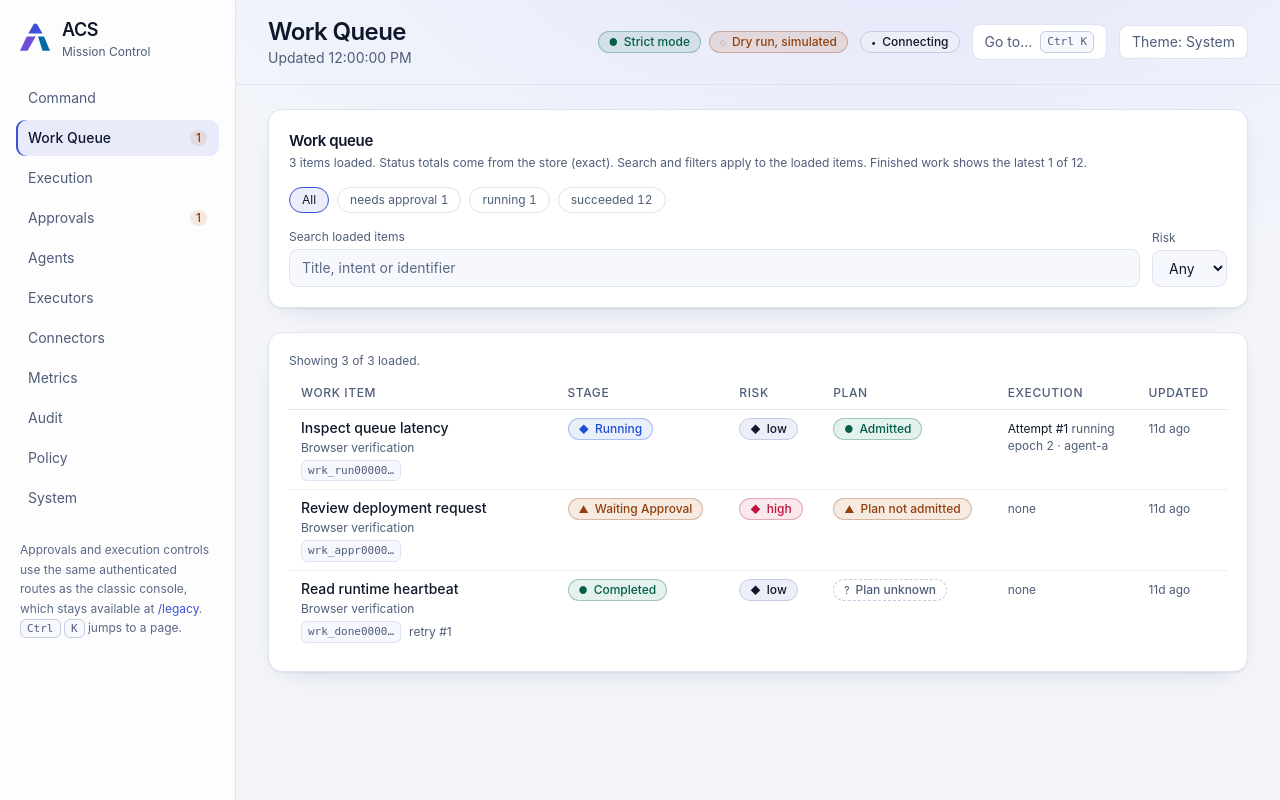
Test case: Work queue › filters by status chip and search, and says so when nothing matches
Expected: the table named "Work items" is shown, [289,376,1227,651]
Click the button "needs approval 1".
click(399, 200)  # box [337,186,461,212]
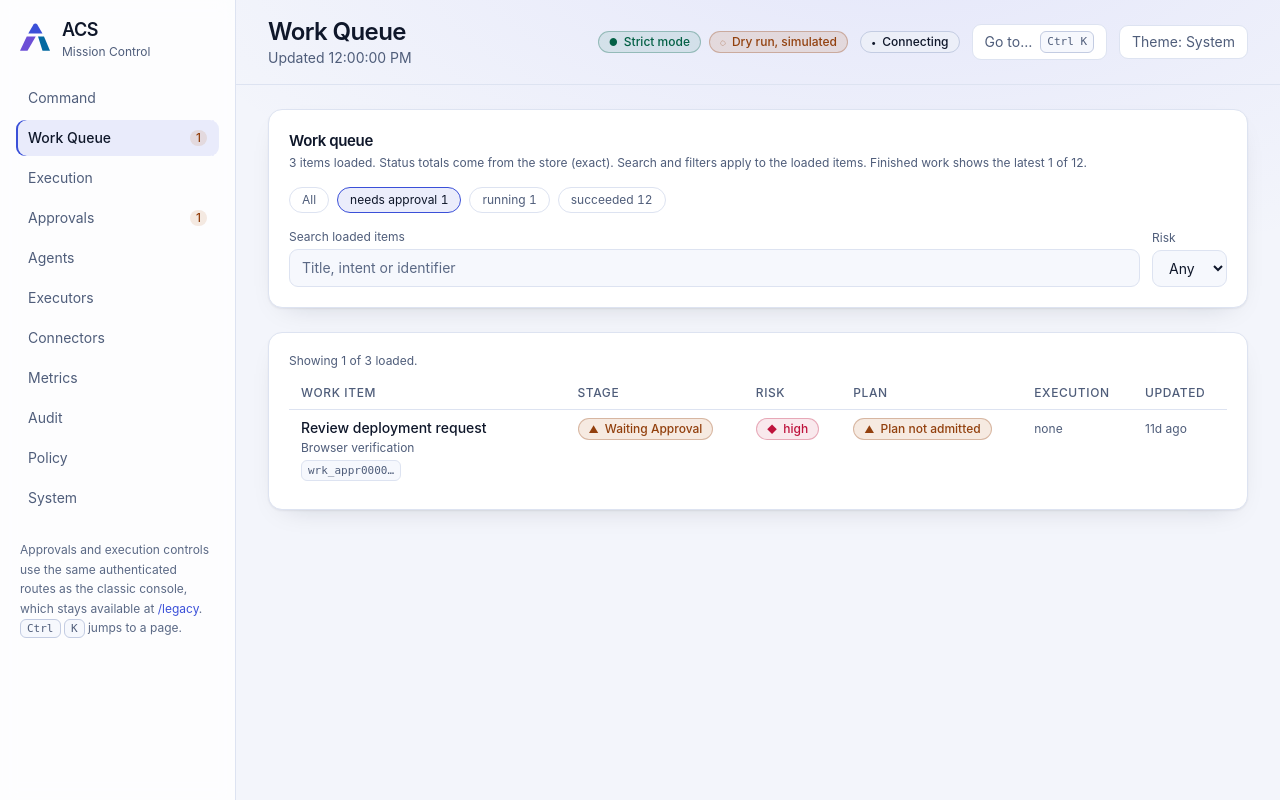
Result: the text "Showing 1 of 3 loaded." is shown at [289,352,418,368]
Type "zzz-nothing" into the search field labelled "Search loaded items".
click(714, 268); type("zzz-nothing")  # box [289,248,1140,286]
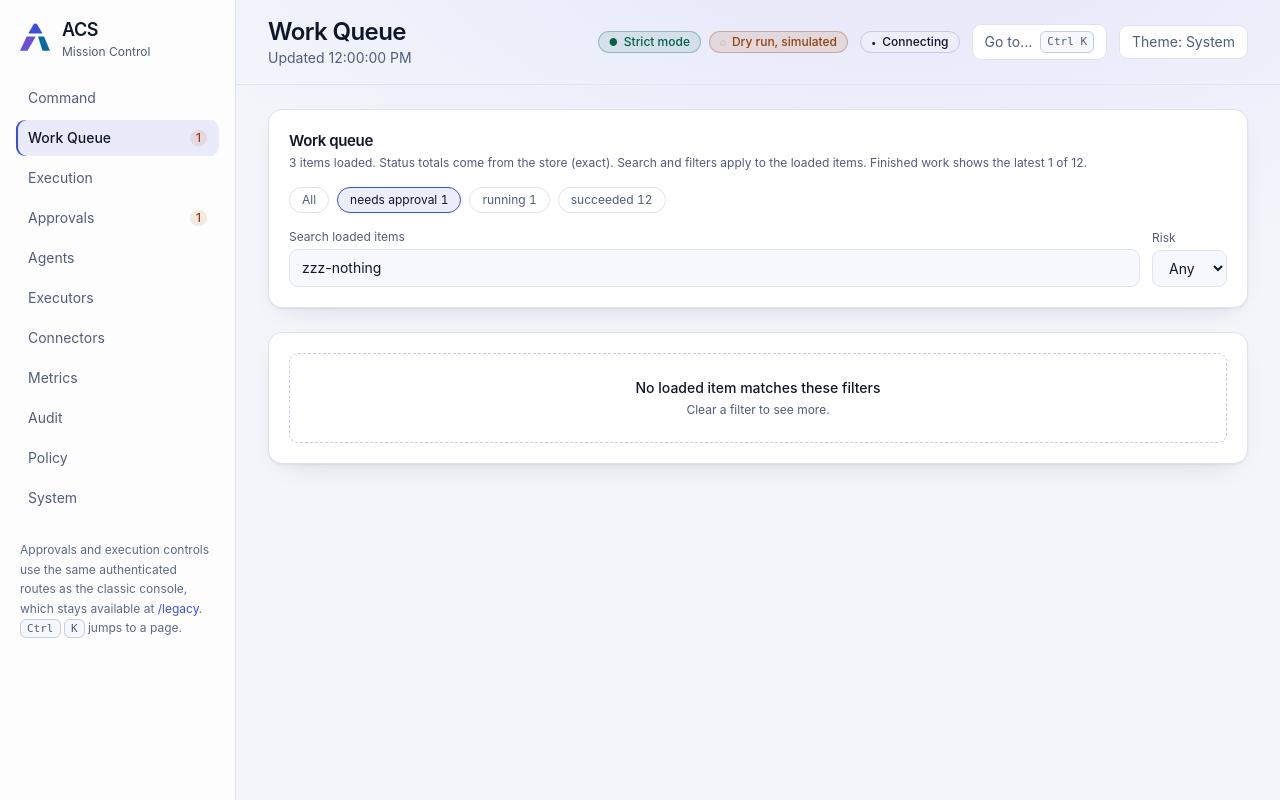
Result: the text "No loaded item matches these filters" is shown at [636,378,880,396]
